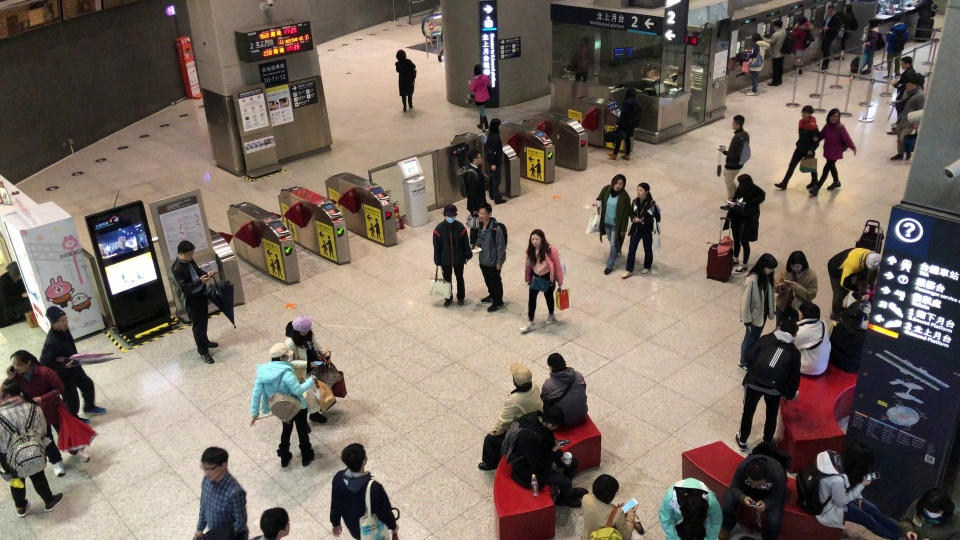person_head: (201, 446, 230, 481), (259, 507, 290, 539), (844, 443, 874, 475), (591, 474, 619, 503), (340, 443, 367, 472), (923, 491, 944, 519), (9, 350, 34, 373), (542, 405, 564, 431), (746, 461, 768, 487), (681, 498, 707, 519), (510, 363, 532, 387), (47, 306, 69, 329), (798, 301, 821, 322), (268, 341, 291, 361), (546, 352, 567, 373), (789, 250, 808, 273), (176, 240, 196, 261), (293, 315, 312, 337), (780, 318, 800, 337), (763, 253, 778, 276), (1, 382, 20, 399), (866, 252, 881, 272), (477, 203, 492, 222), (530, 229, 545, 248), (6, 261, 21, 280), (737, 174, 754, 190), (467, 149, 483, 165), (636, 182, 651, 199), (731, 113, 746, 130), (612, 174, 626, 191), (827, 107, 841, 123), (443, 207, 457, 222), (801, 103, 814, 119), (900, 55, 913, 69), (905, 77, 918, 91), (490, 118, 502, 133), (623, 87, 636, 99), (395, 48, 406, 60), (472, 64, 484, 75), (842, 2, 853, 12), (773, 19, 783, 29), (751, 32, 762, 41), (867, 19, 878, 28), (827, 4, 835, 16), (798, 16, 807, 24), (892, 15, 900, 23)
person_vbox: (4, 350, 89, 477), (794, 442, 903, 540), (500, 405, 589, 508), (733, 318, 801, 451), (0, 382, 64, 519), (249, 341, 315, 469), (38, 305, 106, 424), (715, 442, 791, 540), (476, 362, 542, 469), (328, 443, 399, 540), (169, 240, 219, 365), (284, 315, 332, 425), (518, 228, 567, 334), (192, 447, 247, 540), (721, 173, 766, 276), (737, 253, 775, 373), (808, 108, 858, 197), (580, 474, 646, 540), (826, 247, 882, 323), (431, 204, 472, 307), (772, 104, 819, 193), (658, 477, 723, 540), (621, 182, 662, 281), (473, 203, 508, 314), (539, 352, 588, 431), (594, 174, 632, 273), (773, 250, 818, 331), (717, 114, 751, 211), (897, 487, 960, 539), (888, 77, 925, 163), (455, 148, 485, 249), (792, 302, 832, 377), (605, 85, 641, 159), (885, 55, 917, 136), (758, 19, 793, 87), (0, 261, 32, 329), (485, 117, 508, 205), (742, 33, 771, 98), (467, 63, 492, 130), (883, 14, 908, 80), (818, 4, 842, 71), (859, 18, 885, 75), (792, 15, 816, 76), (834, 2, 859, 60), (394, 49, 417, 112)
